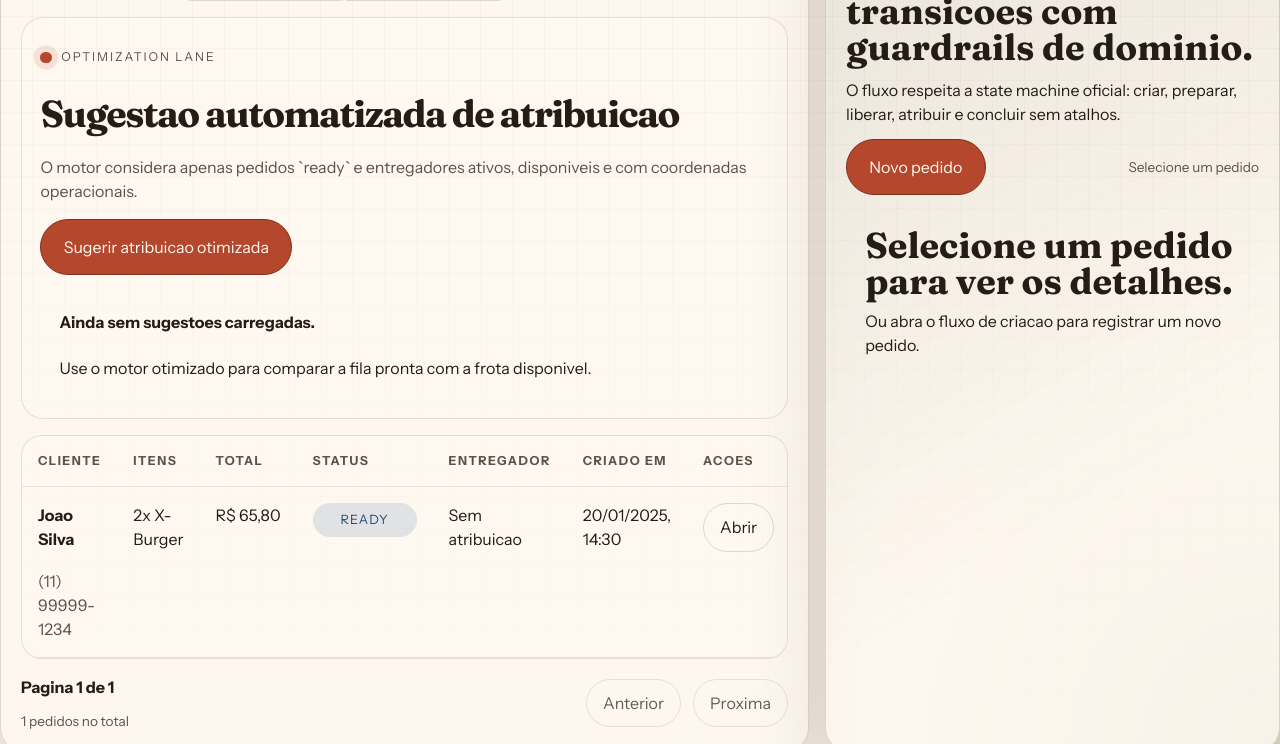
Scenario: OrdersPage › shows business errors when manual assignment is rejected
The image size is (1280, 744).
(page scrolled)
Expected: the text "Joao Silva" is shown, 38,505 -> 74,549
Click the button "Abrir" at x=738, y=528, box 703,503 -> 774,552
(page scrolled)
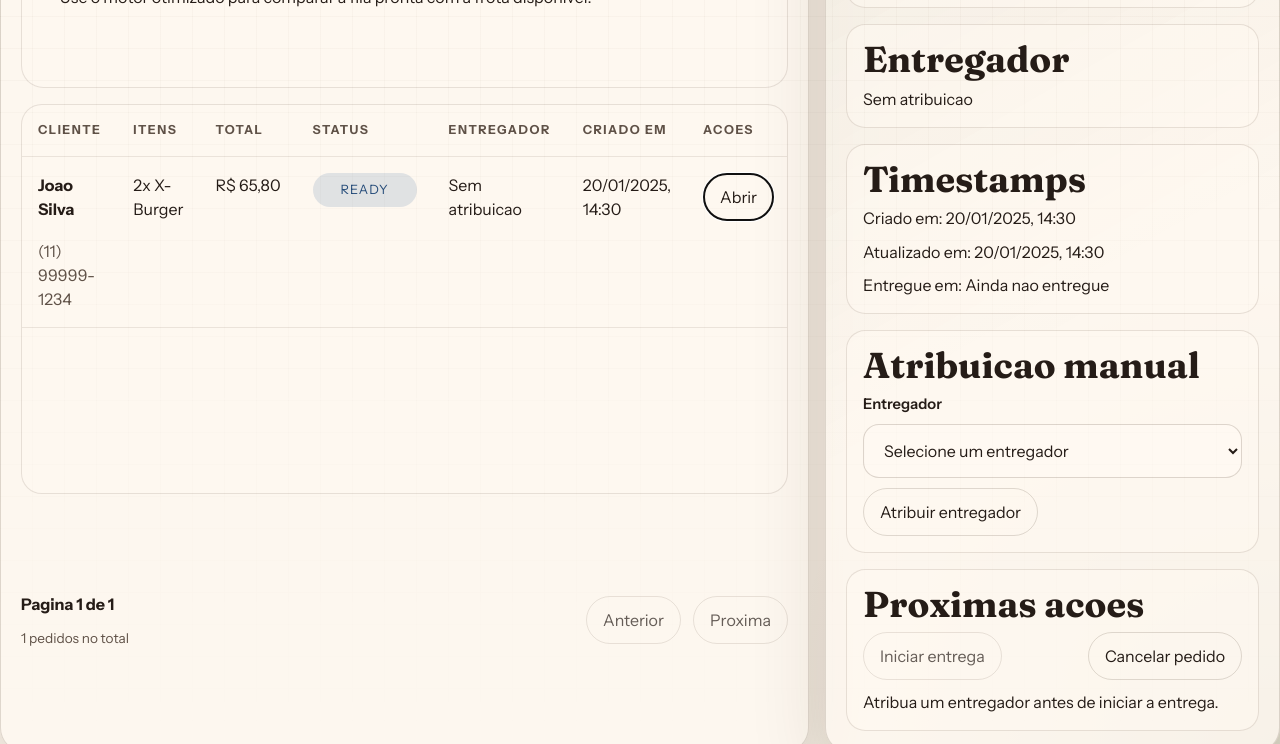
Select "Carlos Santos - motorcycle" in the dropdown labelled "Entregador" at x=1052, y=451, box 863,424 -> 1242,478
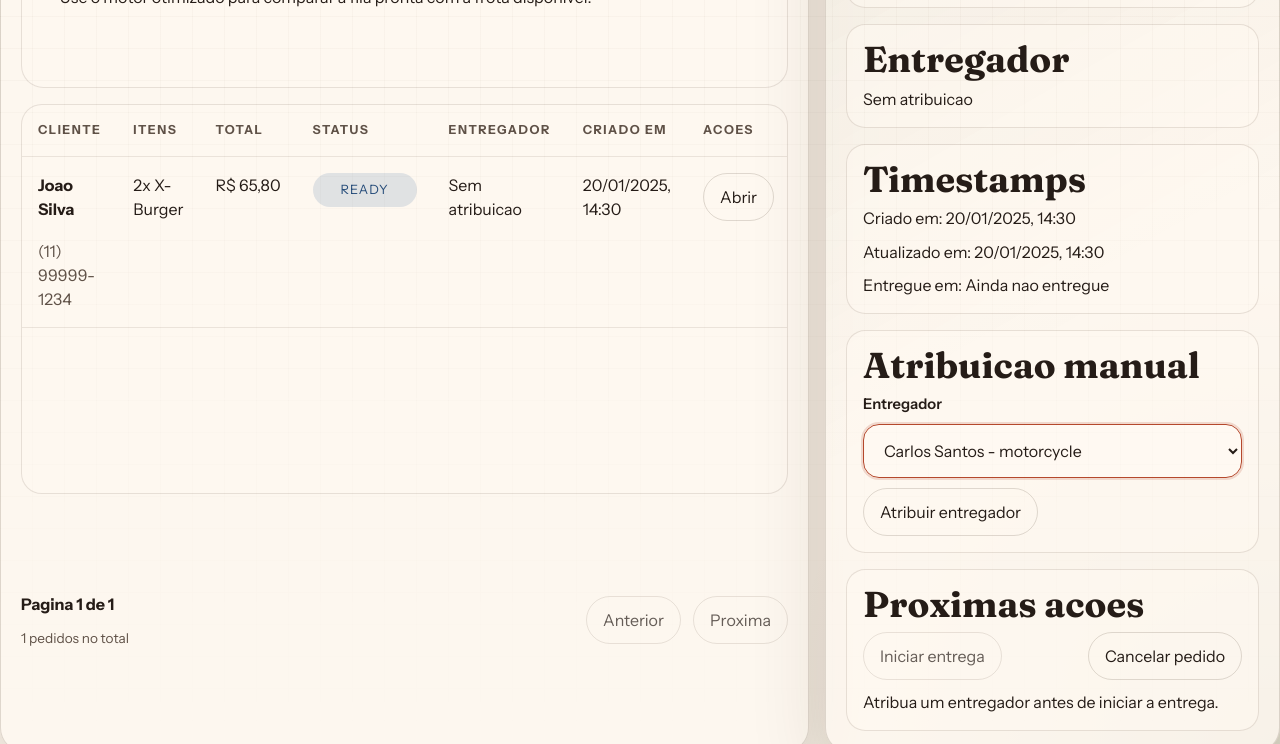
Click the button "Atribuir entregador" at x=951, y=512, box 863,488 -> 1038,536
(page scrolled)
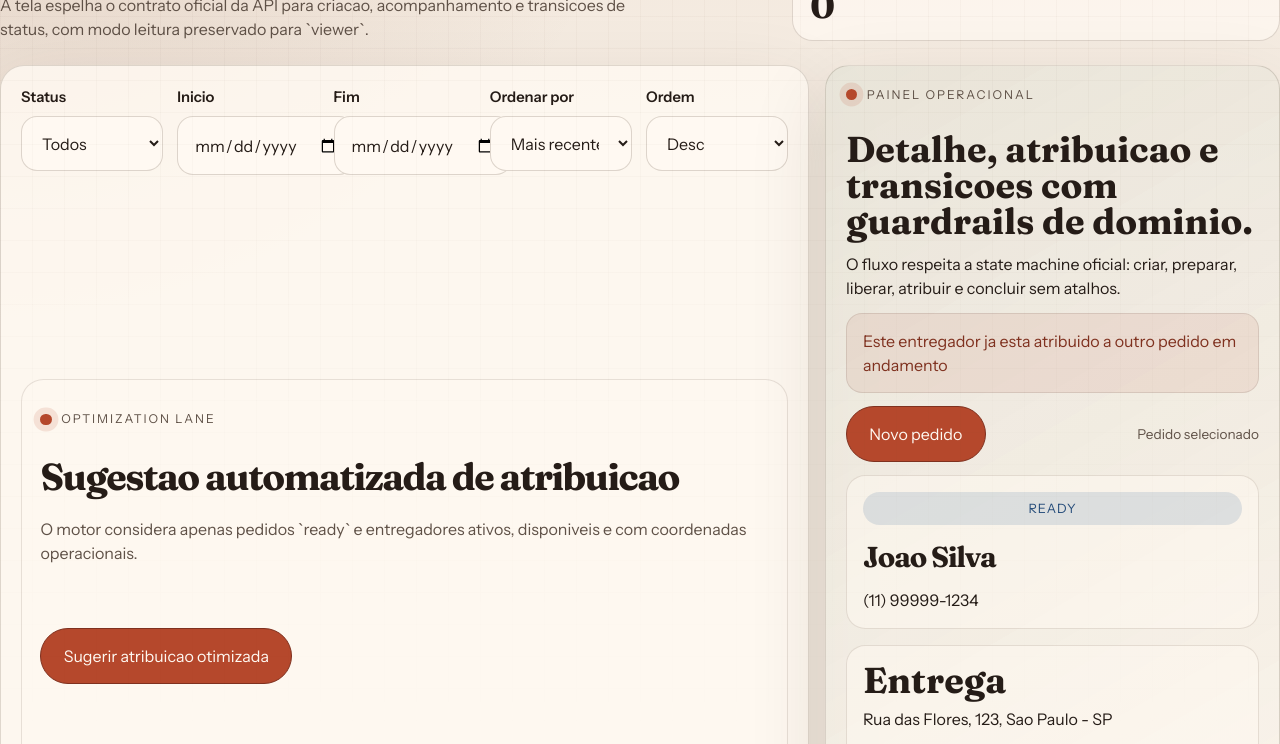
Result: the text "Este entregador ja esta atribuido a outro pedido em andamento" is shown at 846,313 -> 1259,393
